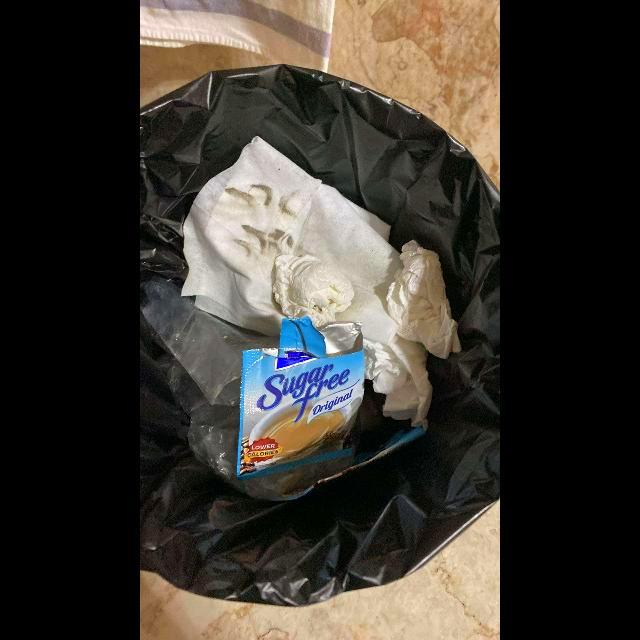paper: (181, 136, 433, 428), (386, 240, 462, 360), (271, 254, 355, 332)
plastic_bag: (140, 282, 357, 502)
plastic_sachet: (236, 319, 366, 479)
